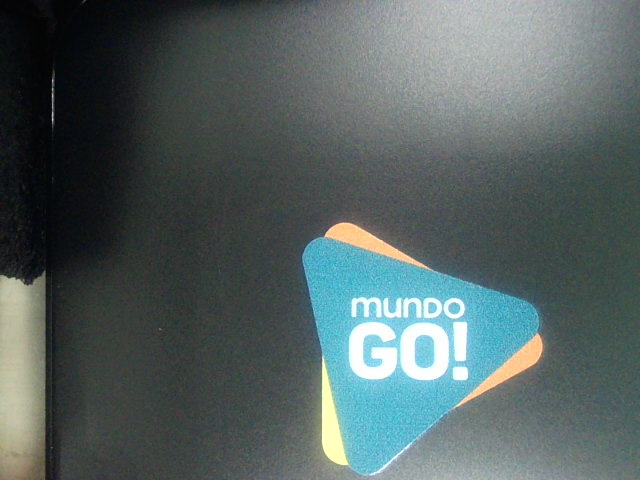AP_IPGMundoGO: (278, 210, 558, 479)
